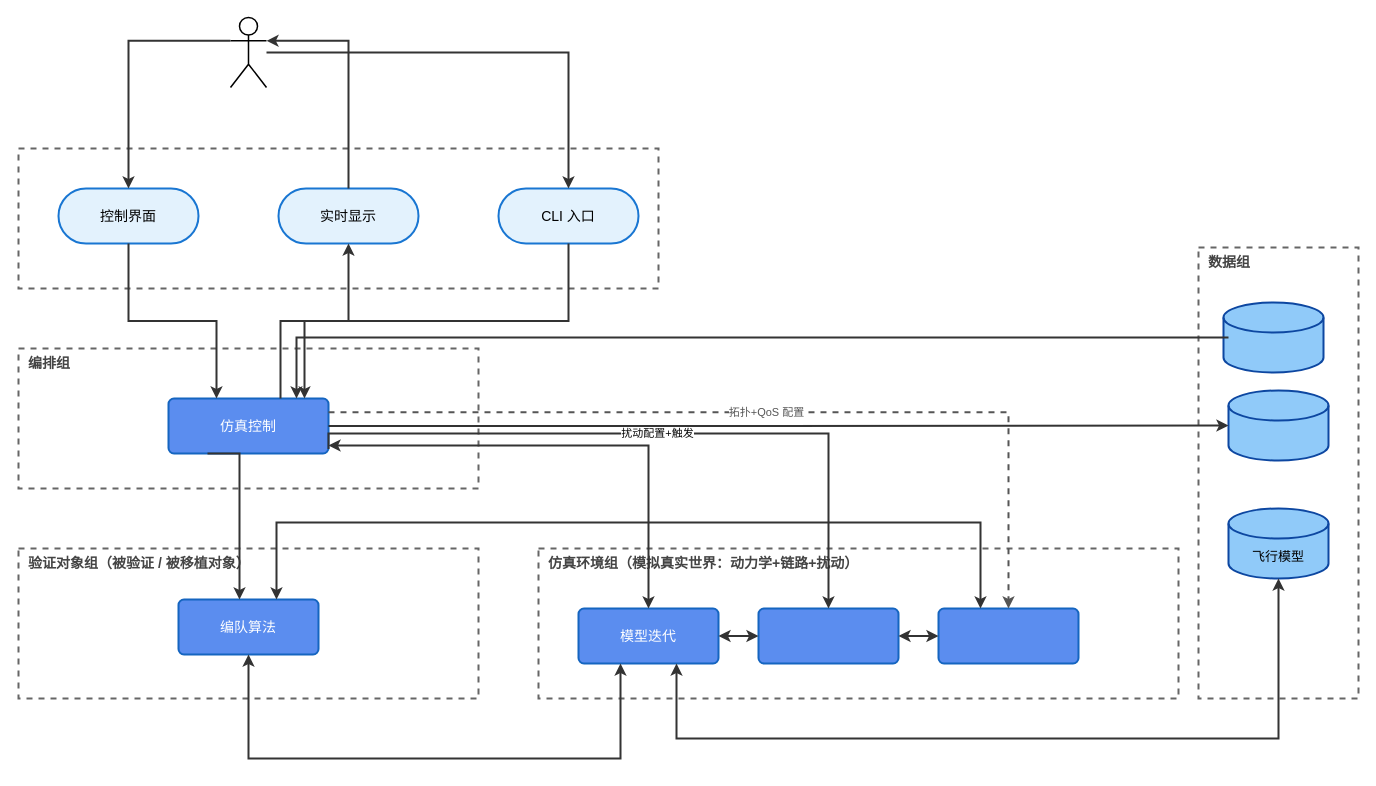
The diagram is 1376 pixels wide and 786 high, and some of its shapes have lost their labels. The shapes that lost their labels are listed below. From the top down, each one's box as (x1, y1, x2, y2) in pixels, then its label:
(229, 16, 267, 88): 用户
(17, 147, 659, 289): 人机交互组
(1222, 301, 1324, 373): 配置文件
(1227, 389, 1329, 461): 关键数据
(757, 607, 899, 664): 加扰
(937, 607, 1079, 664): 通信功能
